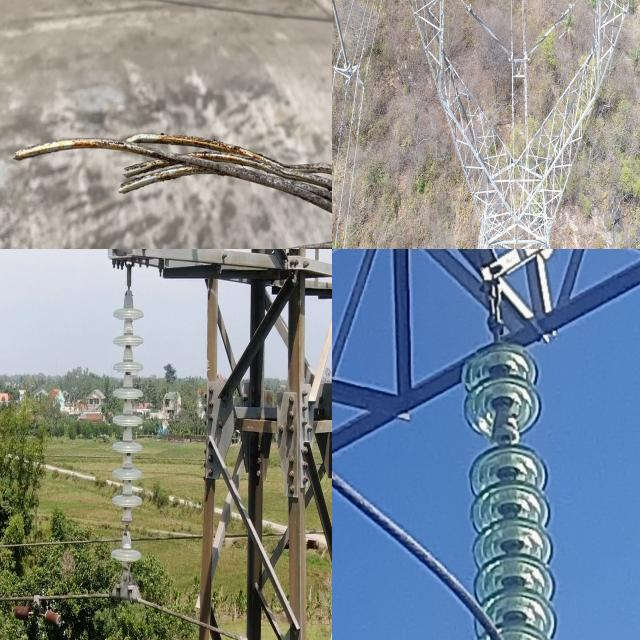杆塔: (103, 249, 332, 640), (332, 0, 640, 249)
正常绝缘子: (452, 296, 568, 640), (107, 266, 147, 596), (465, 2, 514, 64), (524, 4, 573, 63), (332, 0, 358, 87)
电缆破损: (10, 105, 332, 244)
绝缘子破损: (490, 417, 521, 444), (122, 512, 131, 542)
